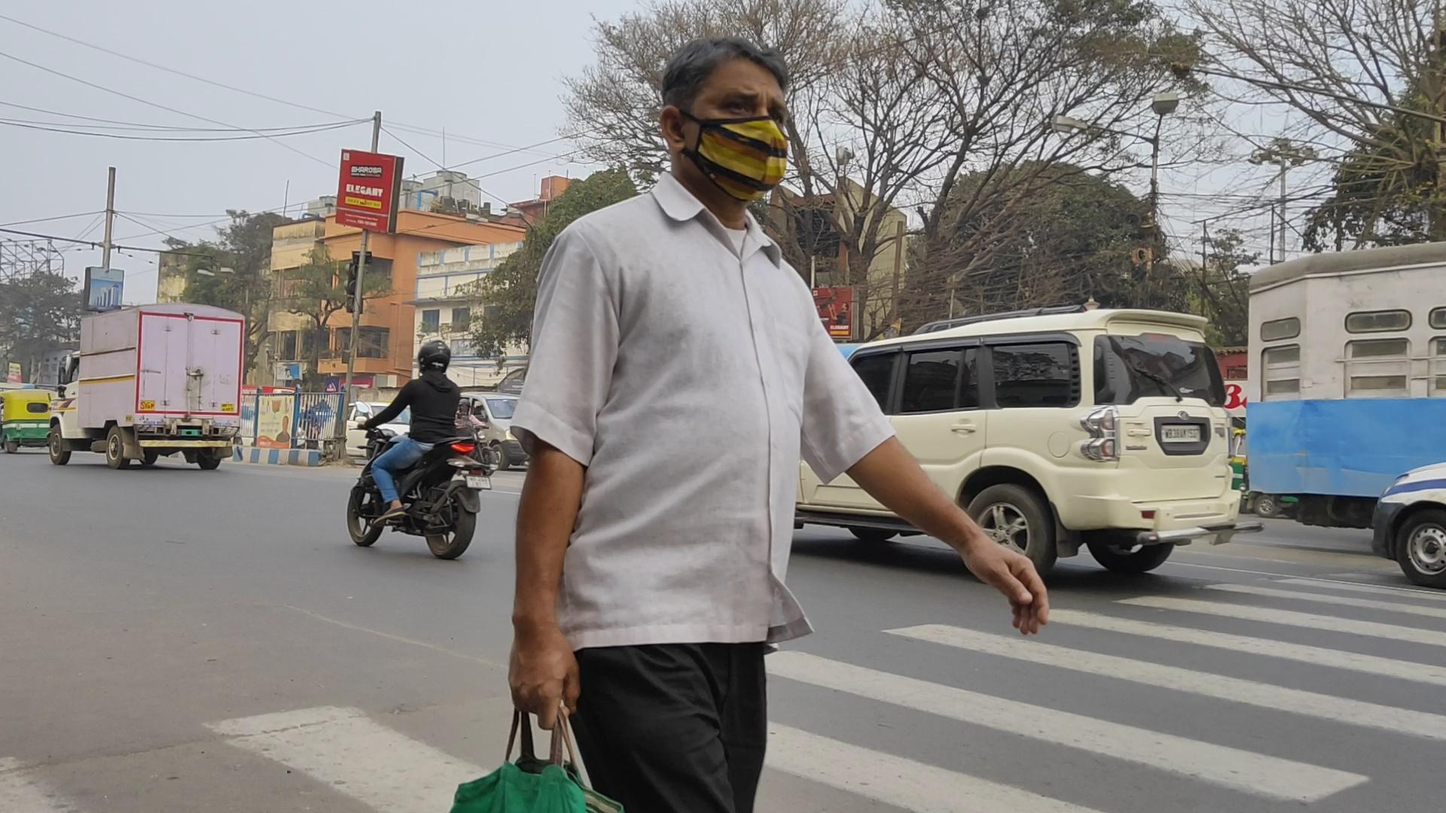Auto: (2, 388, 53, 453)
bike: (346, 340, 493, 561)
car: (794, 300, 1240, 583)
truck: (47, 300, 246, 472)
